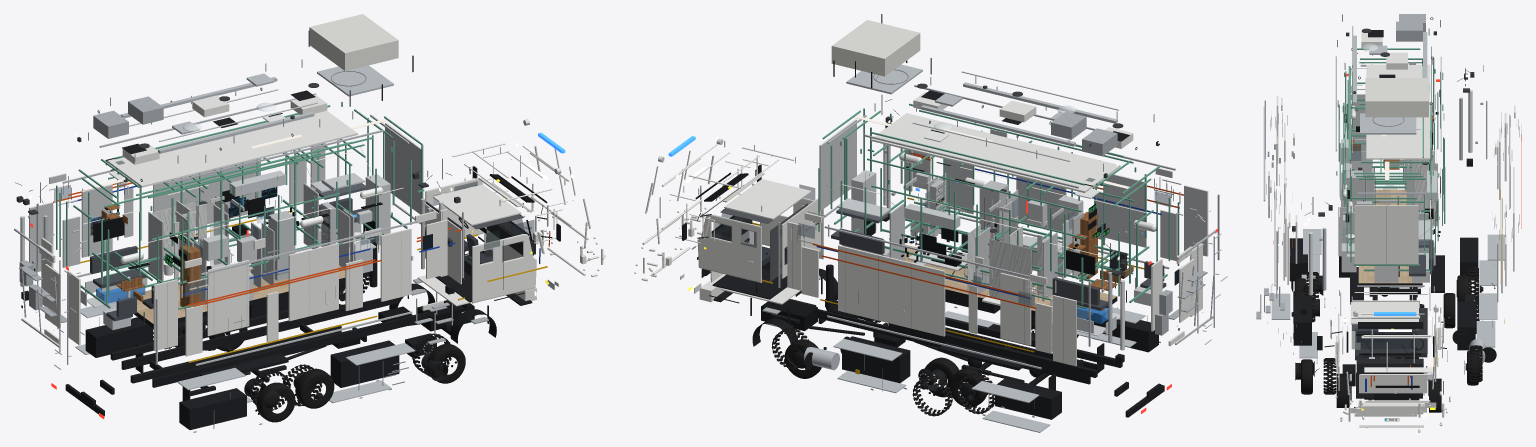
Rendered from kshm2_exploded.glb.
3 renders of one model, left to right at view 1: azimuth 30°, elevation 25°; view 2: azimuth 150°, elevation 25°; view 3: azimuth 270°, elevation 25°, orthographic. The views are drawn at different scales.
Visible parts, largest first — view 1: n996, n1071, n750, n112, n740, n3, n2, n691, n816, n763, n352, n120 (+49 smaller); view 2: n996, n691, n1071, n111, n740, n816, n681, n120, n309, n2, n12, n559 (+48 smaller); view 3: n816, n996, n1071, n122, n114, n365, n1060, n124, n120, n191, n322, n128 (+44 smaller).
Part boxes in pixels (x1=…): n996: x1=106, y1=110, x2=357, y2=187; n1071: x1=309, y1=14, x2=398, y2=70; n750: x1=288, y1=243, x2=338, y2=321; n112: x1=472, y1=234, x2=536, y2=303; n740: x1=207, y1=260, x2=249, y2=335; n3: x1=152, y1=312, x2=428, y2=387; n2: x1=121, y1=298, x2=398, y2=369; n691: x1=153, y1=158, x2=260, y2=226; n816: x1=385, y1=123, x2=421, y2=214; n763: x1=380, y1=228, x2=411, y2=301; n352: x1=179, y1=388, x2=246, y2=429; n120: x1=433, y1=184, x2=521, y2=225; n996: x1=870, y1=113, x2=1120, y2=192; n691: x1=838, y1=245, x2=945, y2=336; n1071: x1=831, y1=20, x2=920, y2=76; n111: x1=697, y1=214, x2=761, y2=282; n740: x1=1105, y1=173, x2=1146, y2=247; n816: x1=819, y1=119, x2=856, y2=210; n681: x1=1000, y1=272, x2=1031, y2=345; n120: x1=724, y1=179, x2=811, y2=219; n309: x1=842, y1=336, x2=910, y2=383; n2: x1=816, y1=309, x2=1090, y2=384; n12: x1=888, y1=323, x2=1097, y2=377; n559: x1=989, y1=239, x2=1031, y2=306; n816: x1=1354, y1=205, x2=1418, y2=264; n996: x1=1366, y1=64, x2=1430, y2=159; n1071: x1=1365, y1=78, x2=1428, y2=117; n122: x1=1360, y1=308, x2=1427, y2=353; n114: x1=1359, y1=372, x2=1427, y2=393; n365: x1=1358, y1=189, x2=1422, y2=287; n1060: x1=1360, y1=113, x2=1416, y2=134; n124: x1=1355, y1=328, x2=1416, y2=348; n120: x1=1350, y1=302, x2=1418, y2=324; n191: x1=1358, y1=401, x2=1426, y2=416; n322: x1=1293, y1=297, x2=1311, y2=345; n128: x1=1356, y1=358, x2=1423, y2=374.
Bounding box in the file's own units: 20.1 × 11.19 × 9.4.
Materials: 282 (51 with a texture image).
